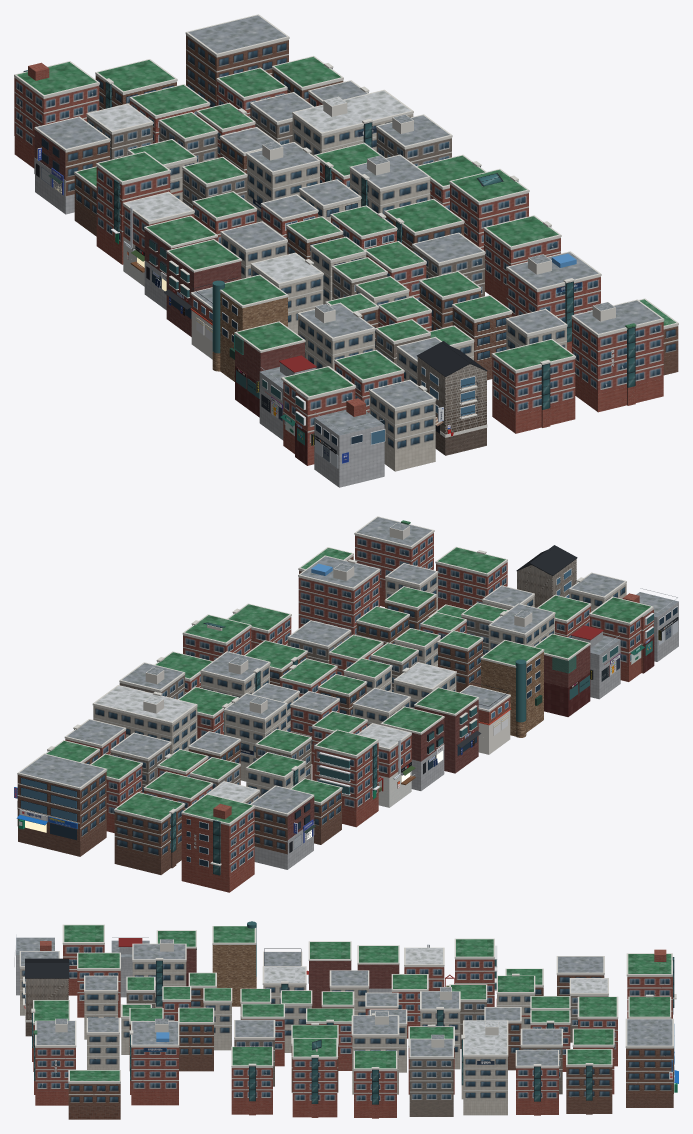
Rendered from place_금북남전체구역.glb.
3 views of the same model, one above another, from view 1: azimuth 30°, elevation 25°; view 2: azimuth 150°, elevation 25°; view 3: azimuth 270°, elevation 25° (orthographic). The views are drawn at different scales.
Visible parts, largest first — view 1: Merged_GreenRoof (×4), Merged_RedBrick (×4), Merged_Parapet (×4), Merged_GreyRoof (×4), Merged_BeigeStone (×4), Merged_BrownBrick (×2), Merged_GreyBrown (×3), Merged_LightGreyRoof (×2), Merged_B1_RedBrick, Merged_Burgundy (×2), Merged_L16_Stone, Merged_L17_DaeseongBrick (+6 smaller); view 2: Merged_GreenRoof (×4), Merged_RedBrick (×4), Merged_Parapet (×4), Merged_GreyRoof (×4), Merged_BeigeStone (×4), Merged_BrownBrick (×2), Merged_LightGreyRoof (×2), Merged_GreyBrown (×3), Merged_Burgundy (×2), Merged_B1_BrownBrick, Merged_L12_StoneBody, Merged_B1_RedBrick (×2) (+15 smaller); view 3: Merged_GreenRoof (×4), Merged_RedBrick (×4), Merged_Parapet (×4), Merged_GreyRoof (×4), Merged_BeigeStone (×4), Merged_BrownBrick (×2), Merged_B1_RedBrick (×3), Merged_GreyBrown (×3), Merged_LightGreyRoof (×2), Merged_B1_BrownBrick (×2), Merged_StairGlass (×3), Merged_L12_StoneBody (+5 smaller).
Part boxes in pixels (bbox=[...]): Merged_GreenRoof (×4): bbox=[17, 56, 675, 396]; Merged_RedBrick (×4): bbox=[14, 77, 663, 447]; Merged_Parapet (×4): bbox=[14, 14, 678, 410]; Merged_GreyRoof (×4): bbox=[37, 15, 661, 435]; Merged_BeigeStone (×4): bbox=[128, 113, 566, 453]; Merged_BrownBrick (×2): bbox=[65, 35, 678, 363]; Merged_GreyBrown (×3): bbox=[87, 105, 484, 364]; Merged_LightGreyRoof (×2): bbox=[89, 90, 410, 282]; Merged_B1_RedBrick: bbox=[485, 273, 663, 433]; Merged_Burgundy (×2): bbox=[144, 229, 304, 381]; Merged_L16_Stone: bbox=[314, 417, 384, 487]; Merged_L17_DaeseongBrick: bbox=[417, 357, 486, 434]; Merged_GreenRoof (×4): bbox=[46, 520, 650, 822]; Merged_RedBrick (×4): bbox=[65, 532, 653, 876]; Merged_Parapet (×4): bbox=[17, 516, 653, 825]; Merged_GreyRoof (×4): bbox=[20, 517, 678, 813]; Merged_BeigeStone (×4): bbox=[93, 573, 626, 794]; Merged_BrownBrick (×2): bbox=[80, 555, 482, 859]; Merged_LightGreyRoof (×2): bbox=[95, 663, 454, 801]; Merged_GreyBrown (×3): bbox=[110, 616, 490, 803]; Merged_Burgundy (×2): bbox=[411, 645, 590, 761]; Merged_B1_BrownBrick: bbox=[18, 778, 341, 874]; Merged_L12_StoneBody: bbox=[481, 652, 543, 736]; Merged_B1_RedBrick (×2): bbox=[106, 749, 378, 892]; Merged_GreenRoof (×4): bbox=[33, 925, 671, 1080]; Merged_RedBrick (×4): bbox=[33, 944, 672, 1103]; Merged_Parapet (×4): bbox=[19, 924, 673, 1083]; Merged_GreyRoof (×4): bbox=[16, 937, 672, 1065]; Merged_BeigeStone (×4): bbox=[20, 961, 534, 1101]; Merged_BrownBrick (×2): bbox=[68, 974, 673, 1105]; Merged_B1_RedBrick (×3): bbox=[32, 1024, 617, 1118]; Merged_GreyBrown (×3): bbox=[126, 992, 608, 1102]; Merged_LightGreyRoof (×2): bbox=[264, 948, 607, 1054]; Merged_B1_BrownBrick (×2): bbox=[68, 1056, 673, 1119]; Merged_StairGlass (×3): bbox=[32, 960, 592, 1104]; Merged_L12_StoneBody: bbox=[212, 945, 255, 1006].
Size of the model in its own units: 78.29 by 17.65 by 154.
Materials: 97 (67 with a texture image).
